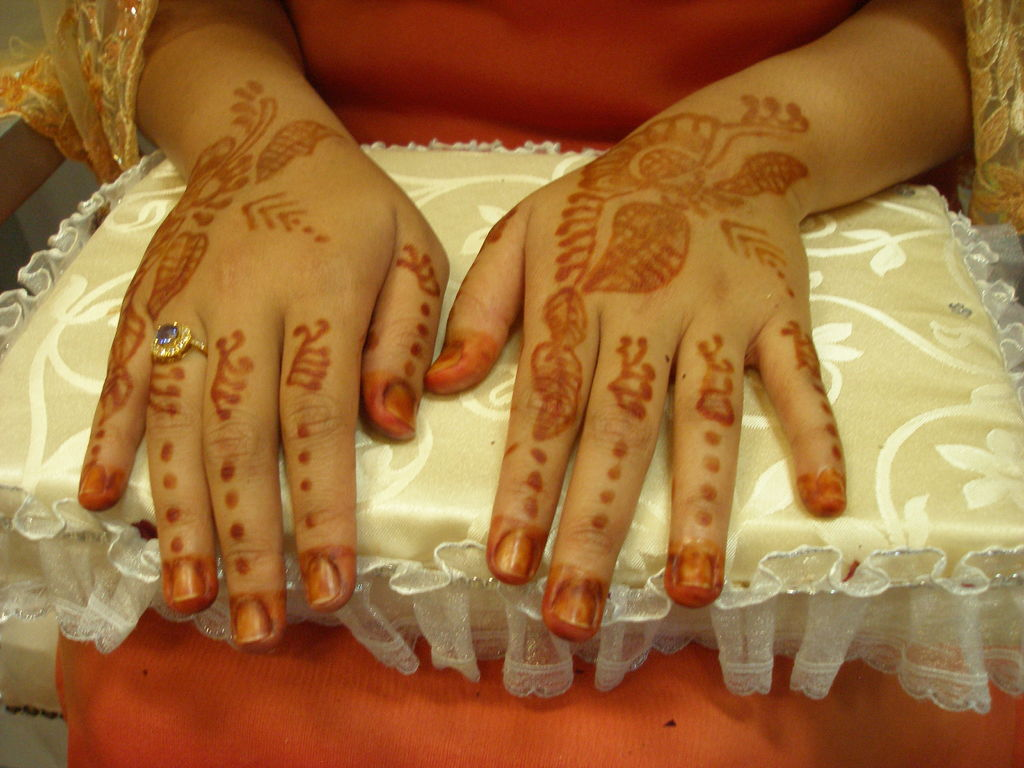Human_hand: (425, 109, 846, 645), (74, 131, 451, 652)
